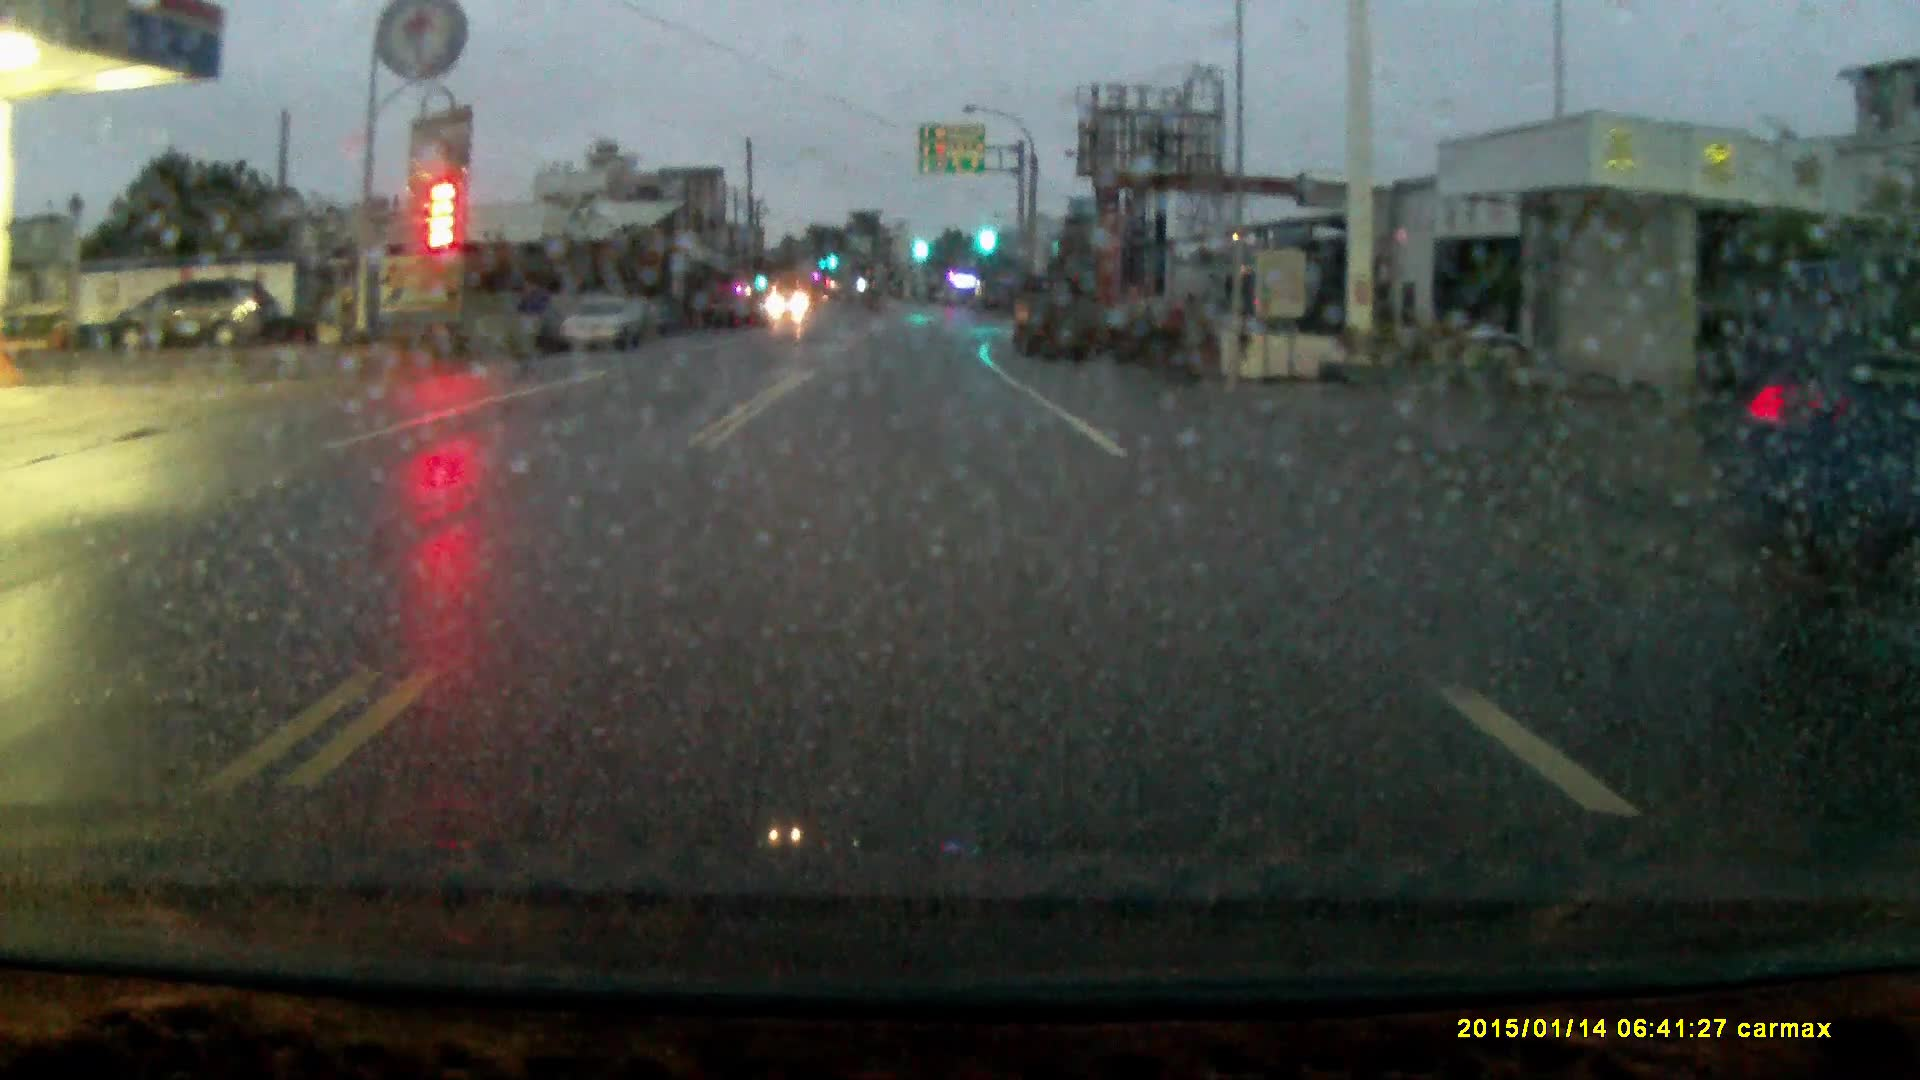rider: (499, 254, 567, 384)
vehicle: (1730, 260, 1912, 602), (106, 278, 285, 351), (1008, 268, 1103, 371), (557, 297, 665, 357)
